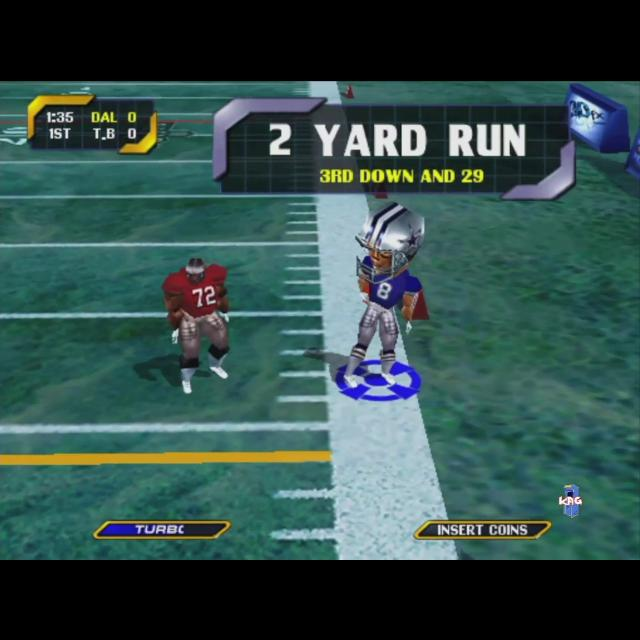player: (344, 202, 431, 386), (162, 256, 230, 392)
